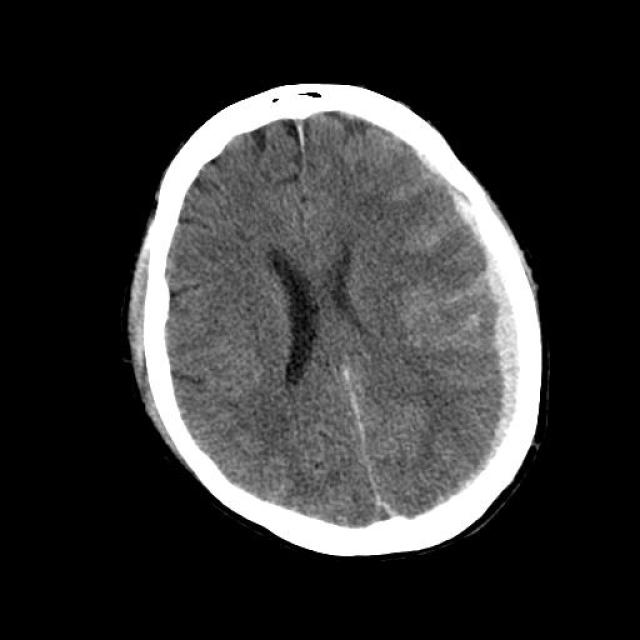Subarachnoid: (423, 278, 492, 360)
Subdural: (436, 154, 540, 458)
